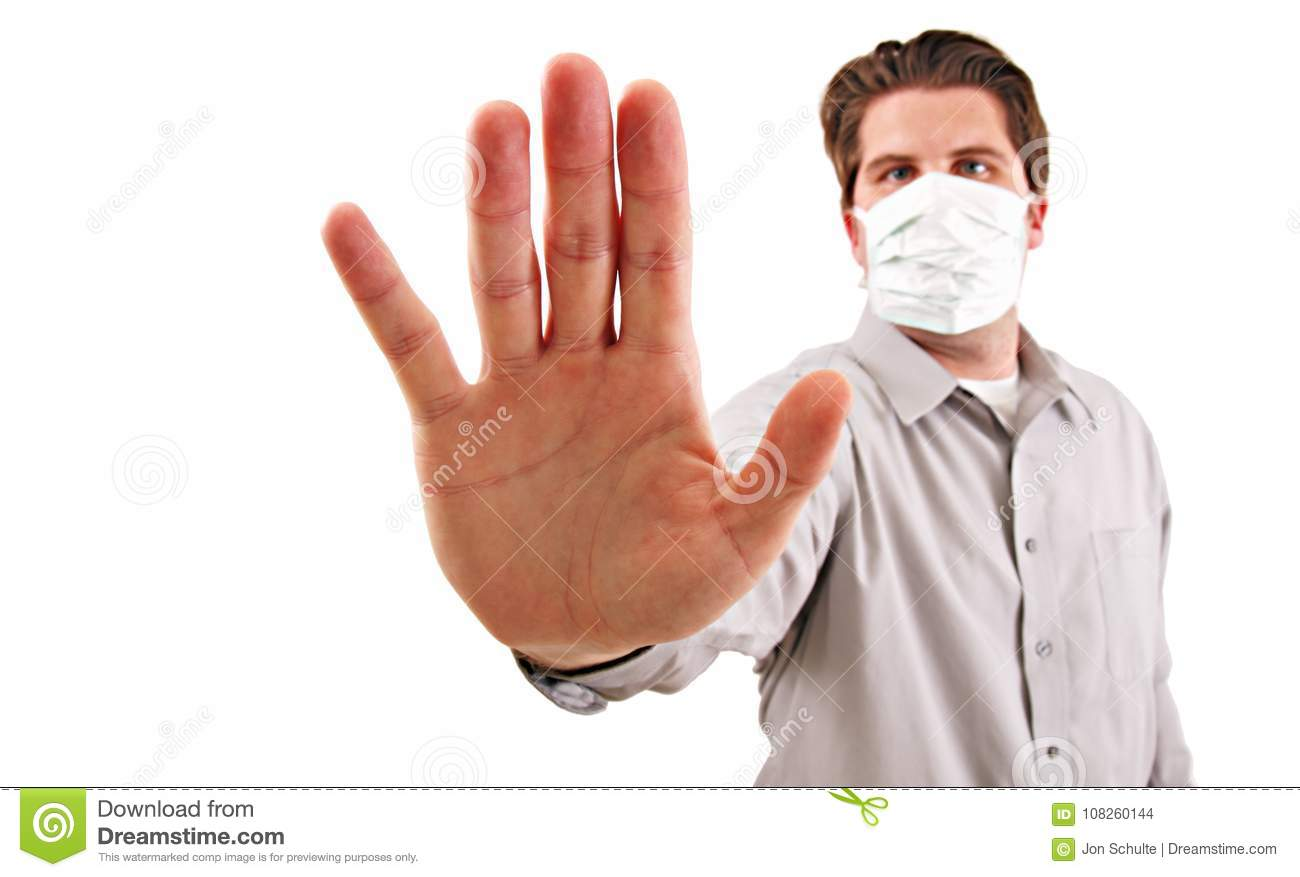mask: (854, 171, 1027, 337)
